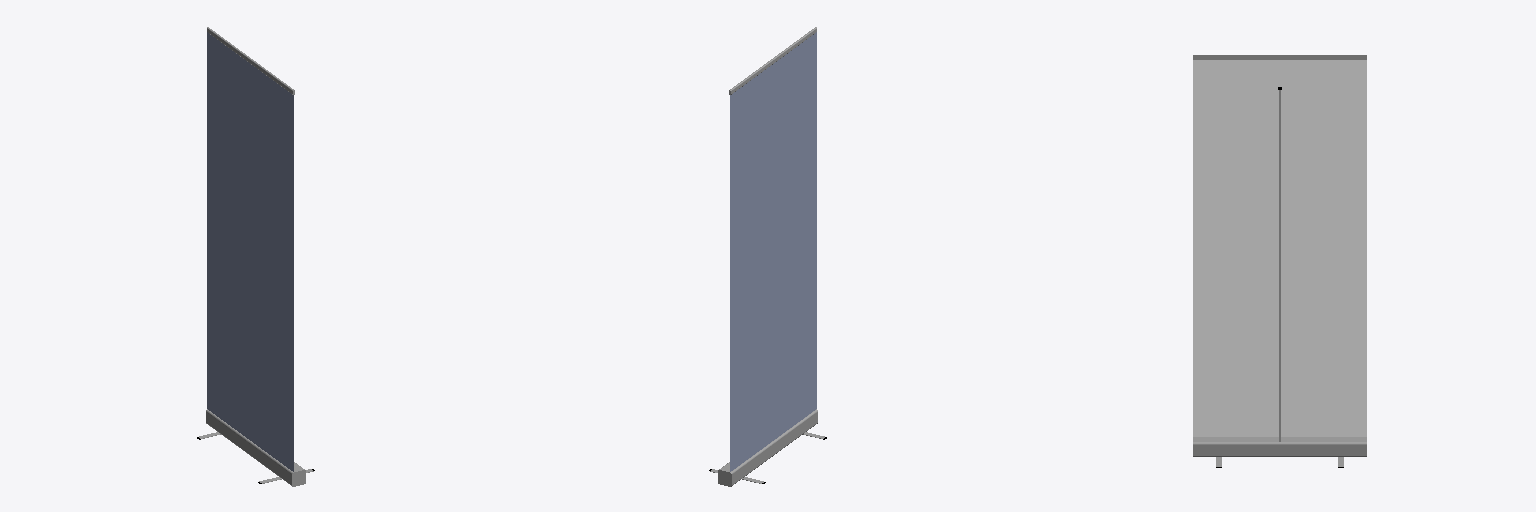
The model's file is RollUp.obj.
3 renders of one model, left to right at view 1: azimuth 30°, elevation 25°; view 2: azimuth 150°, elevation 25°; view 3: azimuth 270°, elevation 25°, orthographic.
Visible parts, largest first — view 1: Mesh1 Model; view 2: Mesh1 Model; view 3: Mesh1 Model.
Boxes of the visible parts, x1=… form: Mesh1 Model: x1=197, y1=27, x2=314, y2=486; Mesh1 Model: x1=709, y1=27, x2=826, y2=486; Mesh1 Model: x1=1193, y1=55, x2=1366, y2=467.
Bounding box in the file's own units: 0.314 × 2.15 × 0.85.